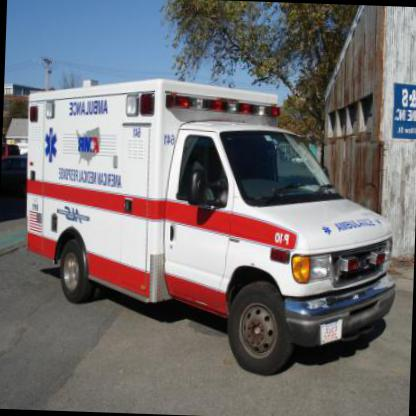truck: (19, 74, 403, 380)
